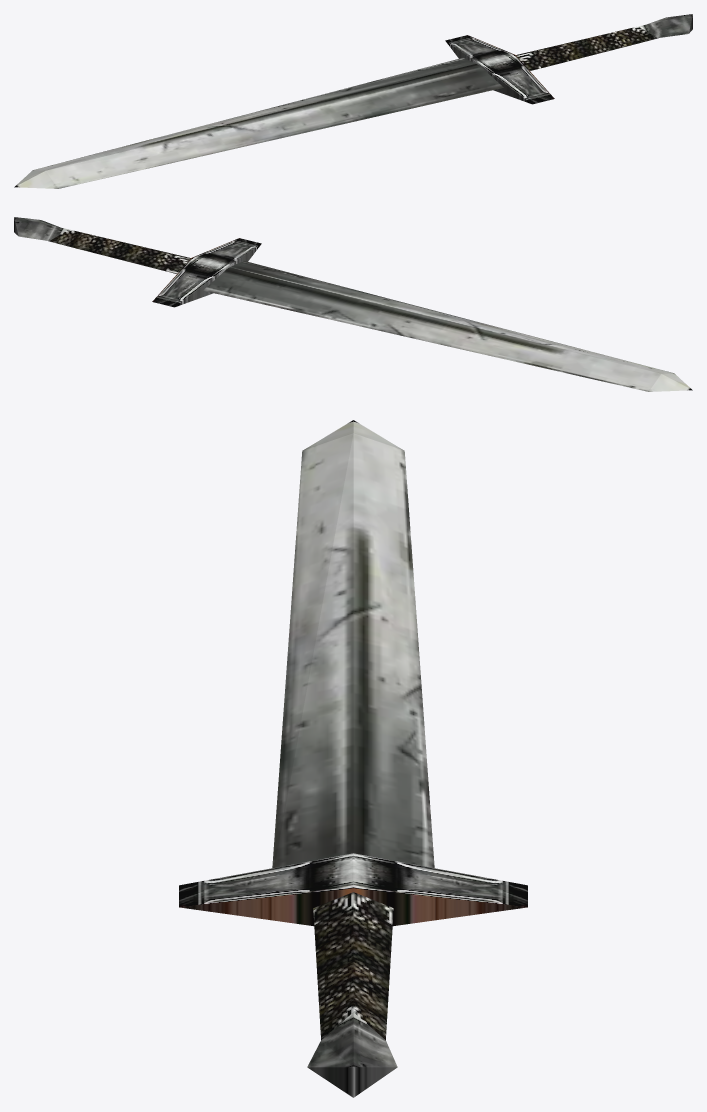
The model's file is ITMW_012_1H_SWORD_SHORT_02.glb.
3 views of the same model, one above another, from view 1: azimuth 30°, elevation 25°; view 2: azimuth 150°, elevation 25°; view 3: azimuth 270°, elevation 25° (orthographic). The views are drawn at different scales.
Parts seen in each view (by area): view 1: ITMW_012_1H_SWORD_SHORT_02; view 2: ITMW_012_1H_SWORD_SHORT_02; view 3: ITMW_012_1H_SWORD_SHORT_02.
Part boxes in pixels (x1,y1,x2,y2): ITMW_012_1H_SWORD_SHORT_02: [14, 14, 692, 188]; ITMW_012_1H_SWORD_SHORT_02: [14, 217, 692, 391]; ITMW_012_1H_SWORD_SHORT_02: [179, 420, 527, 1097].
Bounding box in the file's own units: 0.6943 × 0.021 × 0.1545.
2 materials, 2 textured.
